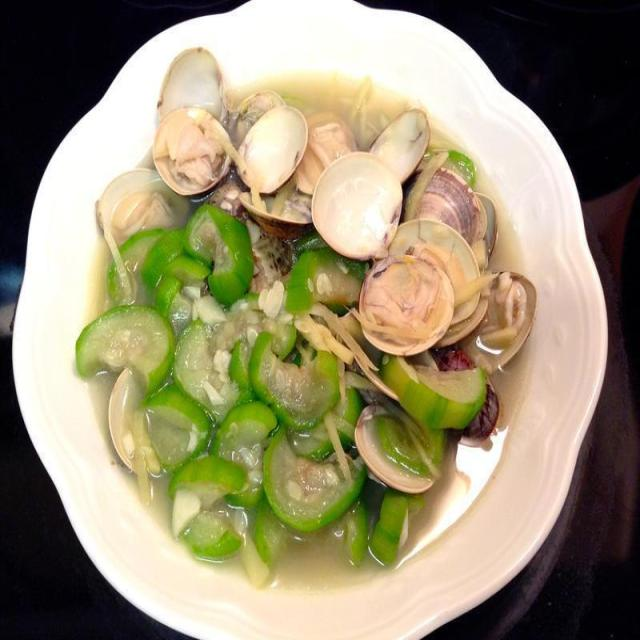Wet: (69, 68, 479, 524)
